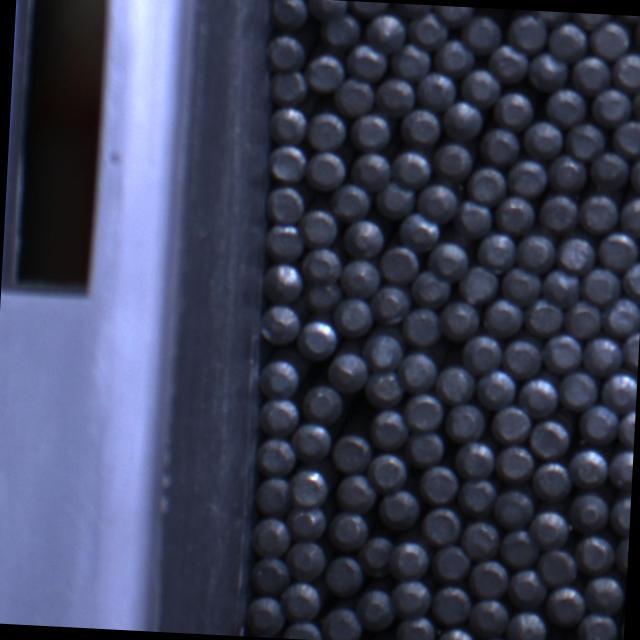tool: (516, 374, 559, 418), (438, 299, 481, 342), (328, 351, 370, 393), (542, 332, 584, 374), (476, 369, 518, 411), (577, 193, 619, 235), (540, 266, 582, 308), (596, 230, 638, 272), (442, 99, 484, 141), (298, 319, 340, 361), (579, 402, 621, 444), (260, 358, 302, 400), (379, 488, 421, 530), (569, 448, 610, 491), (356, 586, 396, 630), (416, 182, 460, 222), (462, 333, 504, 374), (599, 296, 640, 338), (365, 10, 407, 51), (526, 51, 568, 92), (580, 334, 622, 375), (530, 508, 572, 549), (589, 150, 630, 192), (528, 417, 570, 458), (460, 67, 502, 108), (532, 458, 574, 499), (264, 261, 305, 303), (429, 240, 472, 280), (305, 150, 346, 191), (261, 302, 302, 343), (559, 370, 600, 411), (445, 402, 487, 442), (502, 338, 544, 378), (476, 230, 516, 272), (494, 195, 536, 235), (390, 150, 432, 190), (246, 596, 286, 638), (375, 76, 417, 116), (416, 71, 458, 111), (481, 296, 523, 336), (252, 516, 292, 558), (400, 350, 440, 392), (547, 152, 589, 192), (488, 44, 530, 84), (508, 12, 550, 52), (400, 210, 442, 250), (570, 54, 611, 94), (590, 18, 631, 58), (590, 88, 631, 128), (332, 432, 372, 473), (516, 232, 556, 273), (495, 488, 536, 528), (546, 586, 586, 627), (454, 440, 495, 480), (584, 574, 625, 614), (522, 120, 563, 160), (370, 409, 410, 450), (339, 259, 380, 299), (366, 367, 406, 408), (336, 472, 377, 512), (566, 120, 608, 159), (410, 270, 452, 309), (499, 268, 542, 306), (352, 152, 392, 192), (548, 20, 588, 60), (368, 452, 408, 492), (575, 532, 615, 572), (432, 586, 472, 626), (548, 86, 588, 126), (392, 578, 432, 618), (390, 540, 430, 580), (344, 216, 384, 256), (292, 468, 332, 508), (292, 422, 332, 462), (260, 396, 300, 436), (410, 9, 450, 49), (493, 404, 534, 443), (458, 266, 499, 305), (508, 158, 549, 197), (600, 368, 638, 410), (374, 180, 416, 218), (432, 39, 474, 77), (424, 507, 464, 546), (334, 77, 374, 116), (422, 463, 462, 502), (563, 300, 603, 339), (306, 52, 346, 91), (462, 13, 502, 52), (380, 243, 420, 282), (308, 111, 348, 150), (438, 363, 478, 402), (570, 492, 609, 532), (538, 192, 578, 231), (289, 541, 329, 580), (302, 208, 341, 248), (304, 384, 344, 423), (258, 438, 297, 478), (434, 142, 474, 181), (372, 284, 411, 324), (270, 106, 310, 145), (387, 44, 428, 82), (326, 554, 364, 595), (494, 92, 535, 130), (481, 128, 522, 166), (556, 232, 597, 270), (347, 44, 388, 82), (402, 107, 443, 145), (522, 298, 562, 336), (468, 166, 508, 204), (462, 520, 502, 558), (402, 306, 442, 344), (470, 560, 510, 598), (496, 446, 536, 484), (502, 528, 540, 568), (405, 391, 445, 429), (580, 266, 620, 304), (328, 511, 368, 549), (282, 579, 322, 617), (459, 476, 499, 514), (352, 110, 392, 148), (456, 200, 496, 238), (270, 143, 308, 182), (333, 298, 372, 336), (268, 184, 306, 223), (509, 568, 548, 606), (305, 248, 345, 285), (332, 182, 373, 218), (366, 334, 404, 372), (268, 34, 306, 72), (266, 220, 304, 258), (252, 555, 291, 592), (470, 597, 509, 634), (538, 550, 578, 586), (256, 476, 292, 515), (360, 534, 395, 574), (434, 544, 472, 580), (406, 428, 444, 464), (322, 12, 362, 46), (272, 68, 309, 104), (323, 606, 362, 640), (505, 609, 547, 640), (578, 611, 619, 640), (271, 0, 310, 29), (612, 119, 640, 159), (612, 50, 640, 90), (608, 448, 634, 489), (395, 615, 435, 640), (296, 510, 330, 539), (619, 194, 640, 236), (612, 492, 632, 534), (307, 0, 348, 20), (282, 619, 321, 640), (621, 329, 640, 370), (621, 260, 640, 300), (432, 6, 474, 24), (619, 407, 636, 448), (571, 13, 613, 29), (349, 1, 392, 16), (616, 532, 629, 576), (437, 626, 477, 640), (629, 151, 640, 194), (534, 11, 572, 23), (631, 81, 640, 123), (635, 16, 640, 51), (474, 637, 515, 640)
